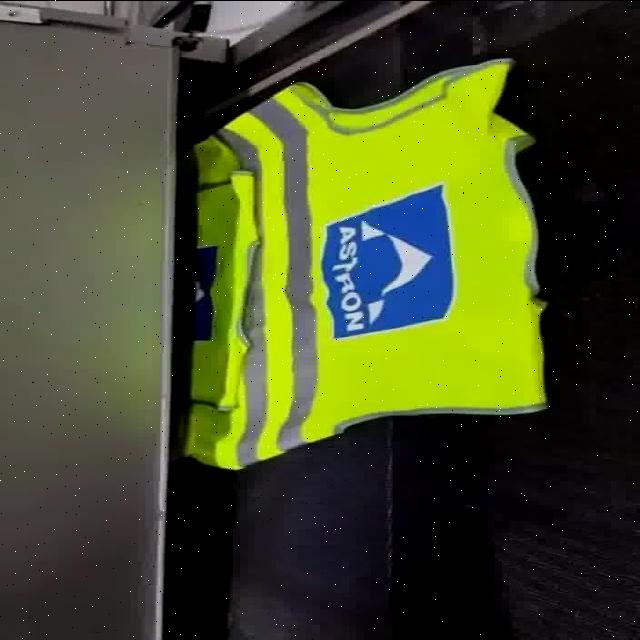Vest: (181, 56, 554, 473)
